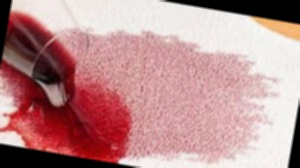wine: (51, 23, 259, 163), (9, 66, 129, 158)
